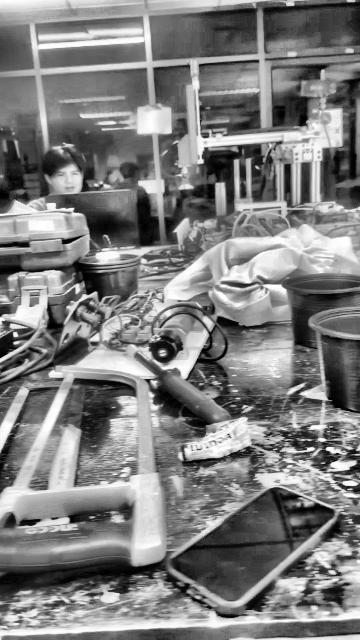pot: (283, 273, 359, 347), (307, 308, 360, 413)
